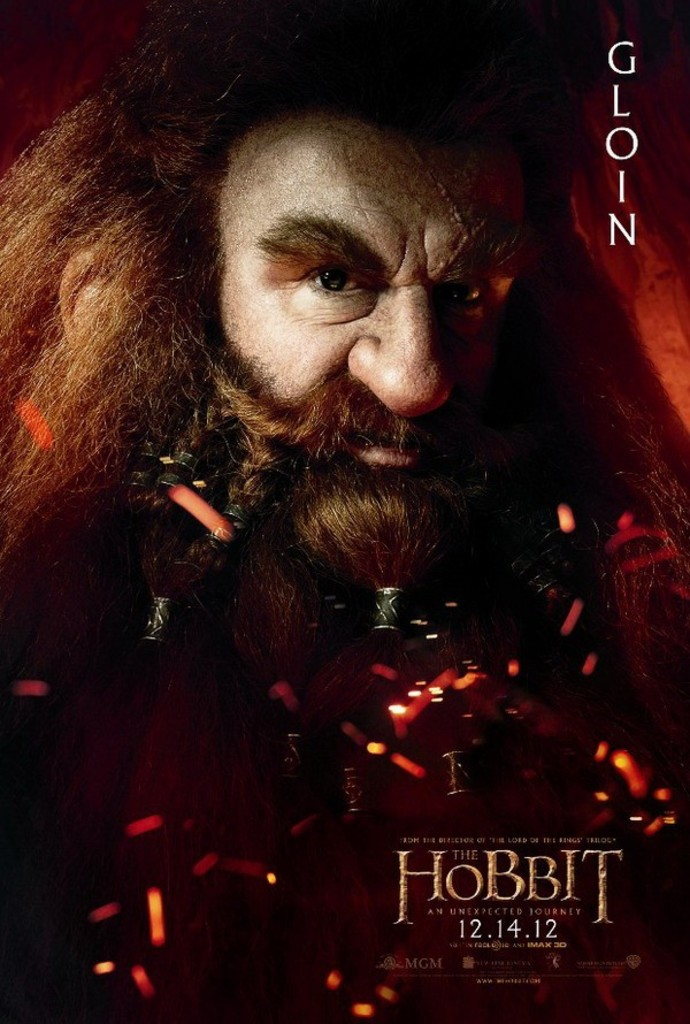Person: (2, 1, 690, 1023)
